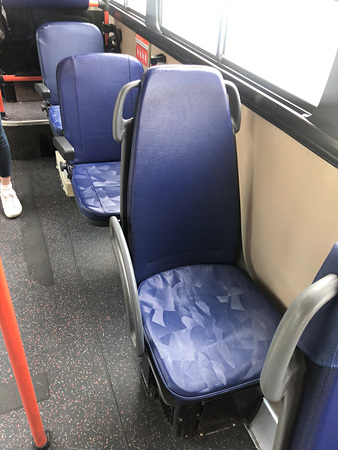seat: (127, 69, 278, 396)
